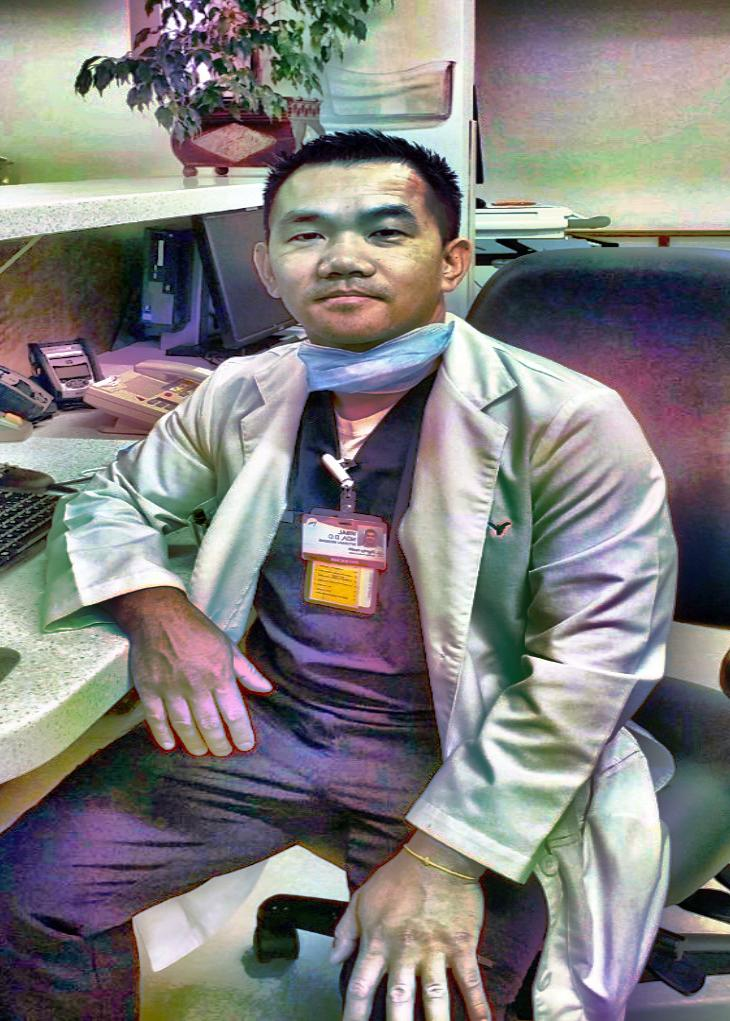mask_weared_incorrect: (257, 130, 471, 366)
